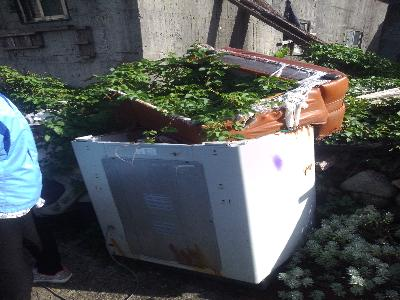box: (71, 125, 318, 290), (113, 46, 349, 144)
